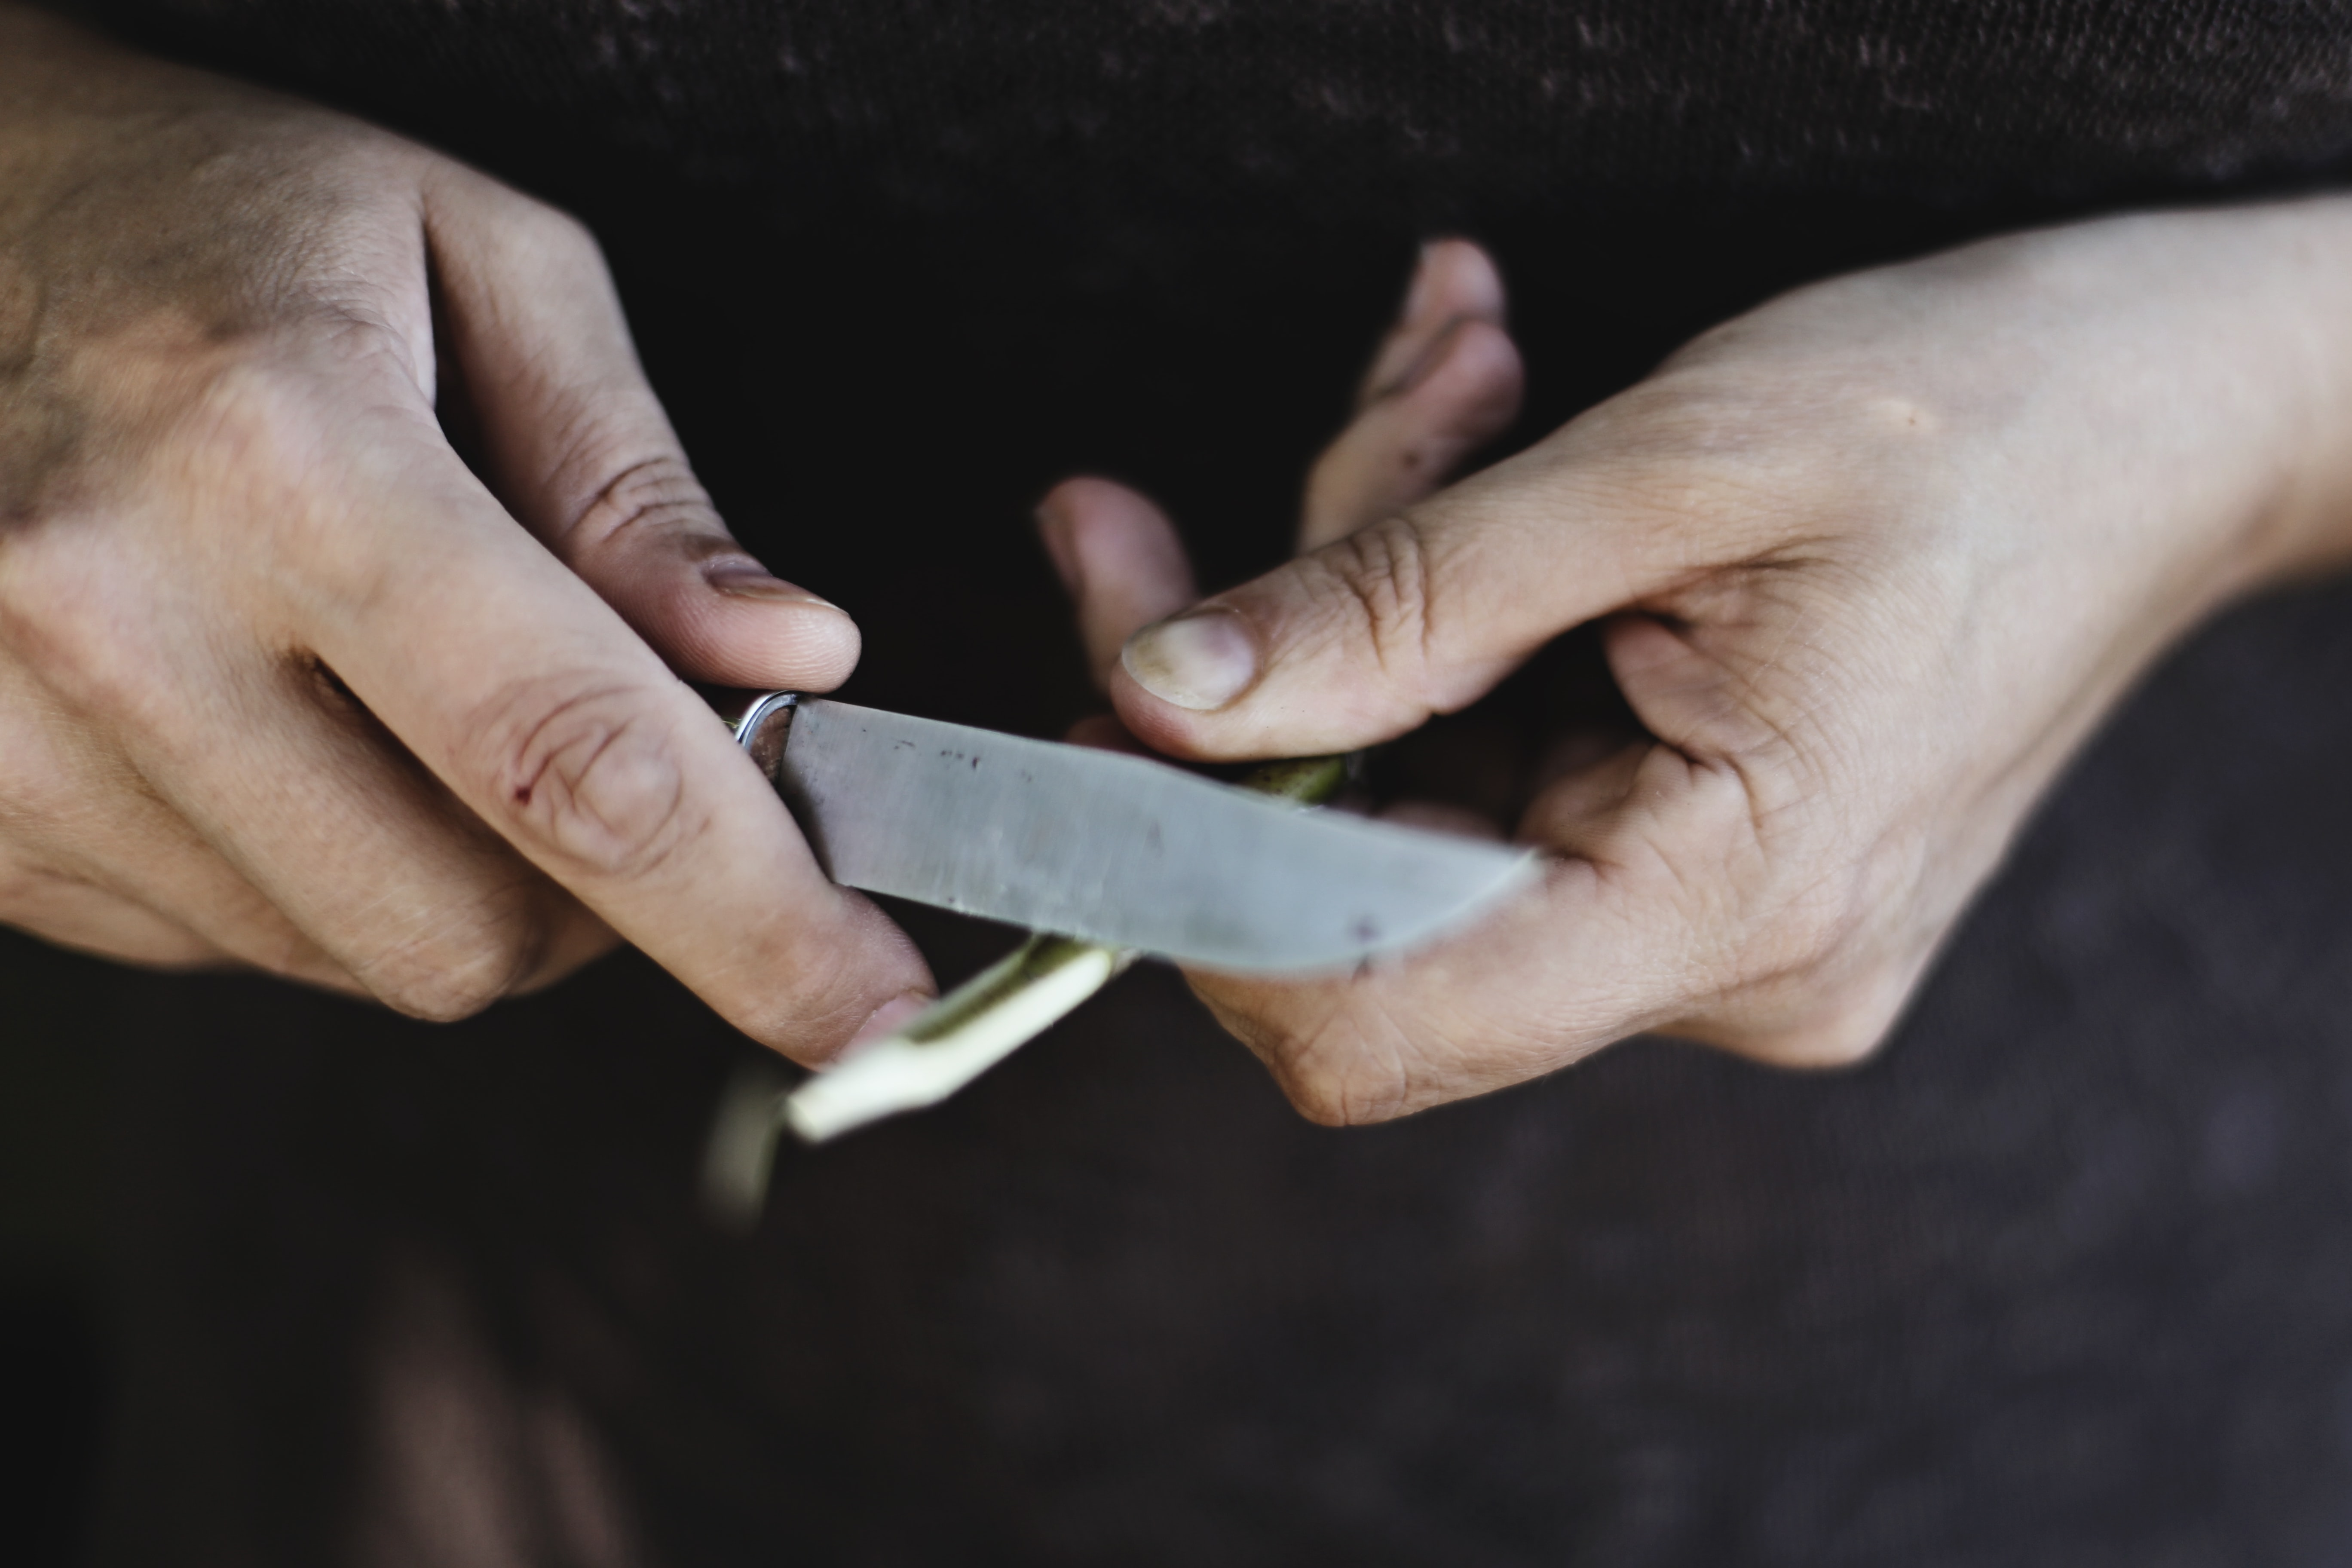knife: (654, 621, 1575, 1041)
